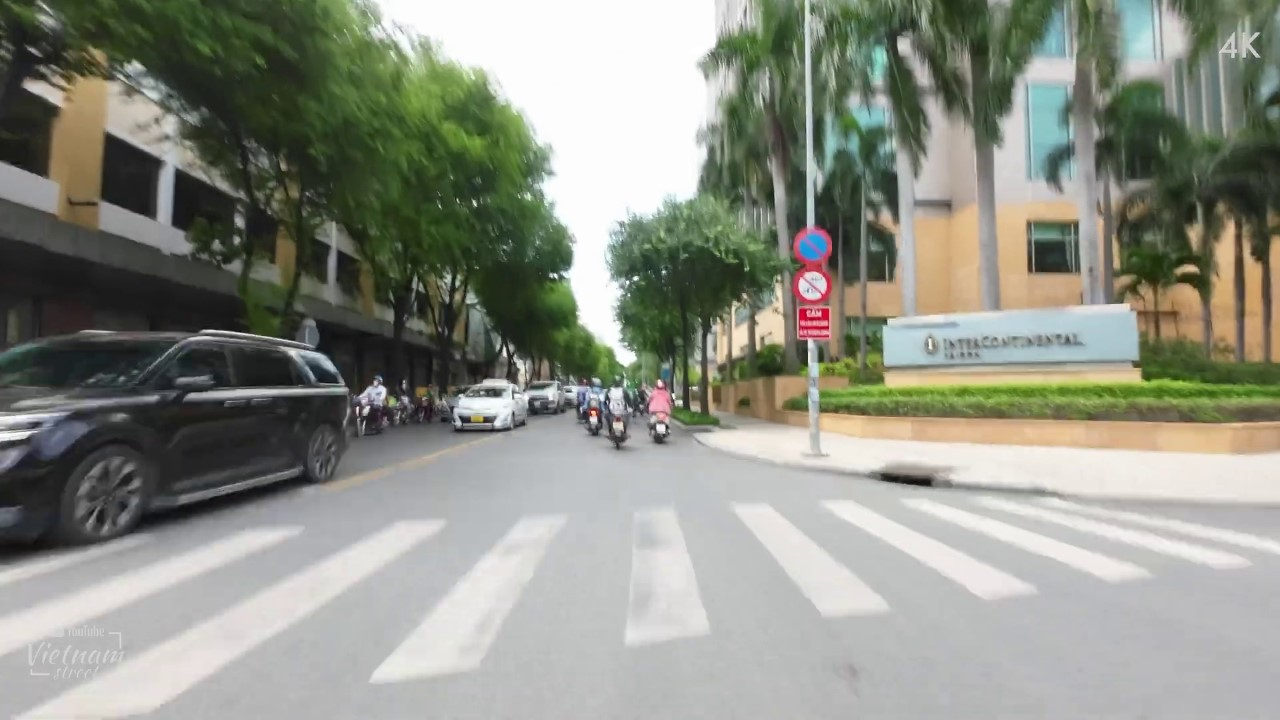cam_do_xe: (792, 228, 833, 265)
